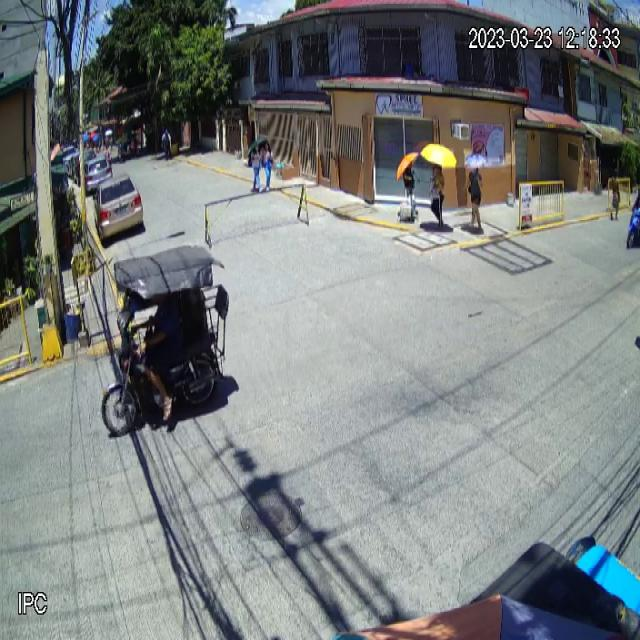Tricycle: (101, 243, 230, 437)
